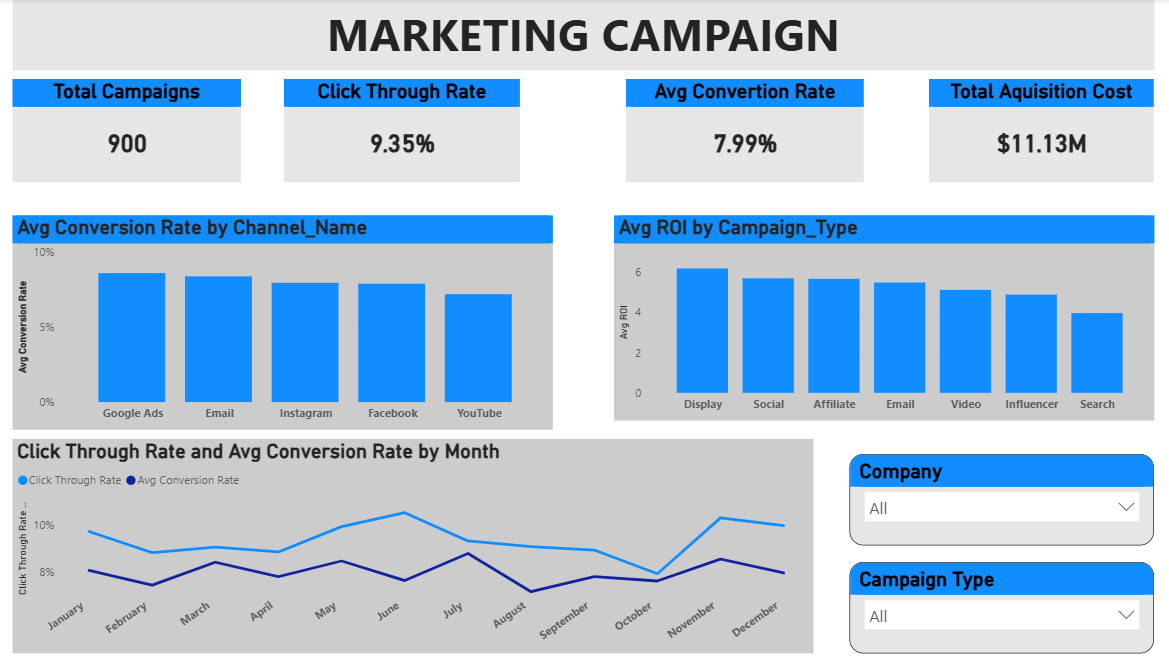

This screenshot's page, from the dashboard's own definition file:
{"tool":"powerbi","page":{"name":"Executive Overview","canvas":[1280,720],"ordinal":0},"visuals":[{"type":"card","title":"Total Campaigns","fields":{"Values":["Marketing Campaign.Total Campaigns"]},"box":[23.9,87.6,247,111.5],"z":0},{"type":"card","title":"Click Through Rate","fields":{"Values":["Marketing Campaign.Click Through Rate"]},"box":[316.7,87.6,254.9,111.5],"z":1000},{"type":"card","title":"Avg Convertion Rate","fields":{"Values":["Marketing Campaign.Avg Conversion Rate"]},"box":[687.1,87.6,256.9,111.5],"z":2000},{"type":"card","title":"Total Aquisition Cost","fields":{"Values":["Marketing Campaign.Total Acquisition Cost"]},"box":[1013.8,87.6,243,111.5],"z":3000},{"type":"columnChart","fields":{"Category":["Channel.Channel_Name"],"Y":["Marketing Campaign.Avg Conversion Rate"]},"box":[23.9,235,583.6,231],"z":4000},{"type":"clusteredColumnChart","fields":{"Category":["Campaign Type.Campaign_Type"],"Y":["Marketing Campaign.Avg ROI"]},"box":[673.2,235,583.6,221.1],"z":5000},{"type":"lineChart","fields":{"Y":["Marketing Campaign.Click Through Rate","Marketing Campaign.Avg Conversion Rate"],"Category":["Date.Date.Variation.Date Hierarchy.Year","Date.Date.Variation.Date Hierarchy.Quarter","Date.Date.Variation.Date Hierarchy.Month"]},"box":[23.9,476,864.4,231],"z":6000},{"type":"textbox","box":[23.9,0,1232.9,77.7],"z":7000},{"type":"slicer","title":"Campaign Type","fields":{"Values":["Campaign Type.Campaign_Type"]},"box":[927.8,608.8,328.7,98.8],"z":8000},{"type":"slicer","title":"Company","fields":{"Values":["Marketing Campaign.Company"]},"box":[927.8,492.2,328.7,98.8],"z":9000}]}

Visuals, with their boxes in screenshot pixels (x1, y1, x2, y2), scaled from the page's 1280x720 canvas onto the 1169x662 screenshot:
"Total Campaigns" card: [left=22, top=81, right=247, bottom=183]
"Click Through Rate" card: [left=289, top=81, right=522, bottom=183]
"Avg Convertion Rate" card: [left=628, top=81, right=862, bottom=183]
"Total Aquisition Cost" card: [left=926, top=81, right=1148, bottom=183]
columnChart - Channel.Channel_Name x Marketing Campaign.Avg Conversion Rate: [left=22, top=216, right=555, bottom=428]
clusteredColumnChart - Campaign Type.Campaign_Type x Marketing Campaign.Avg ROI: [left=615, top=216, right=1148, bottom=419]
lineChart - Marketing Campaign.Click Through Rate x Marketing Campaign.Avg Conversion Rate: [left=22, top=438, right=811, bottom=650]
textbox: [left=22, top=0, right=1148, bottom=71]
"Campaign Type" slicer: [left=847, top=560, right=1148, bottom=651]
"Company" slicer: [left=847, top=453, right=1148, bottom=543]
